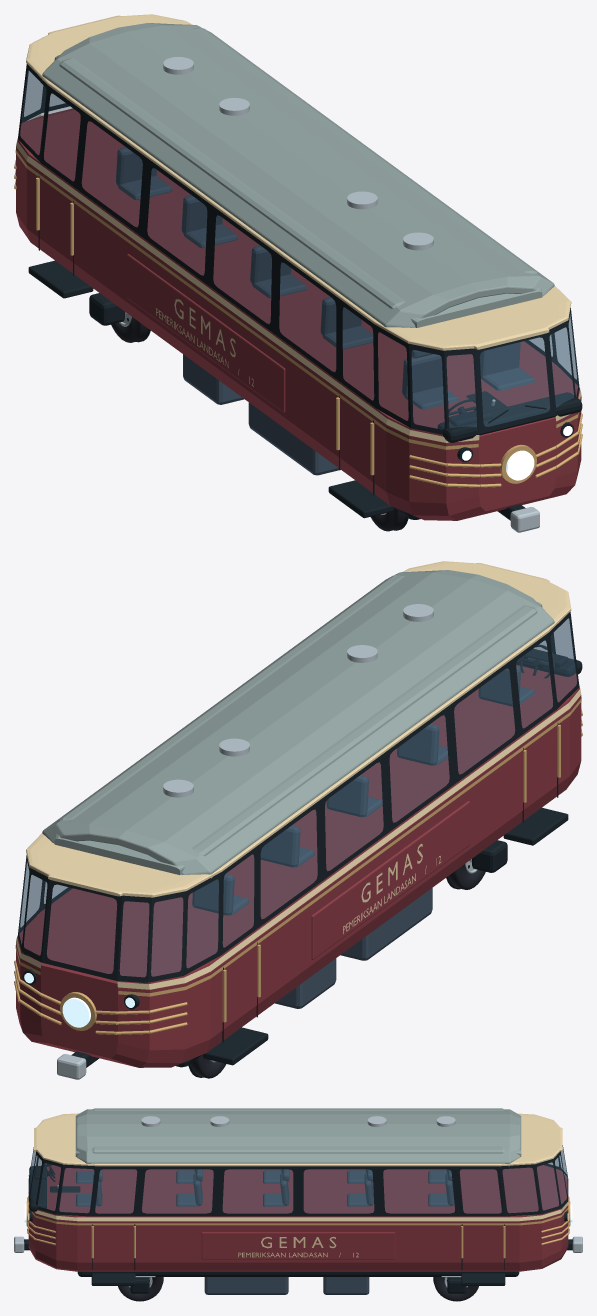
The picture shows the model from 3 angles, top to bottom: view 1: azimuth 30°, elevation 25°; view 2: azimuth 150°, elevation 25°; view 3: azimuth 270°, elevation 25°; orthographic projection. The views are drawn at different scales.
Parts seen in each view (by area): view 1: Gemas Inspection Railcar; view 2: Gemas Inspection Railcar; view 3: Gemas Inspection Railcar.
Part boxes in pixels (x1,y1,x2,y2): Gemas Inspection Railcar: (14,14,582,532); Gemas Inspection Railcar: (14,561,582,1079); Gemas Inspection Railcar: (14,1108,582,1301).
Bounding box in the file's own units: 2.56 × 3.25 × 9.98.
